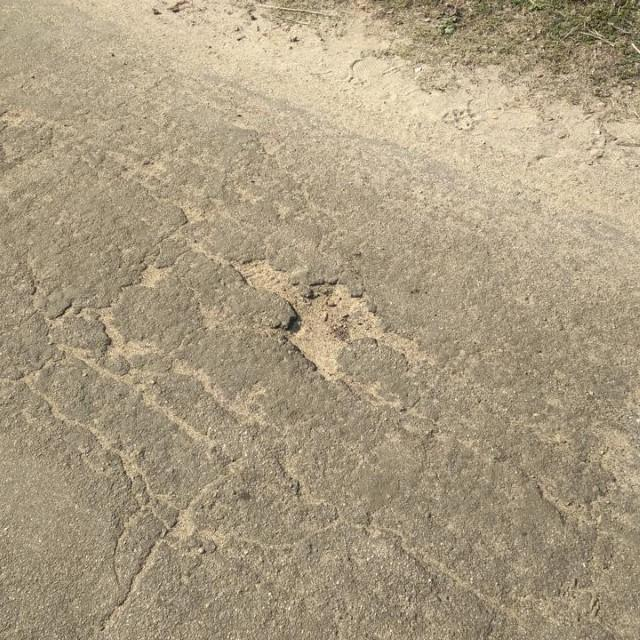pothole: (227, 255, 439, 381)
